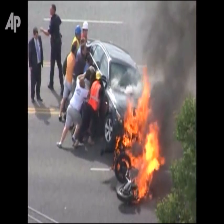fire_h: (122, 60, 166, 201)
fire_l: (112, 137, 121, 160), (117, 158, 129, 171)
